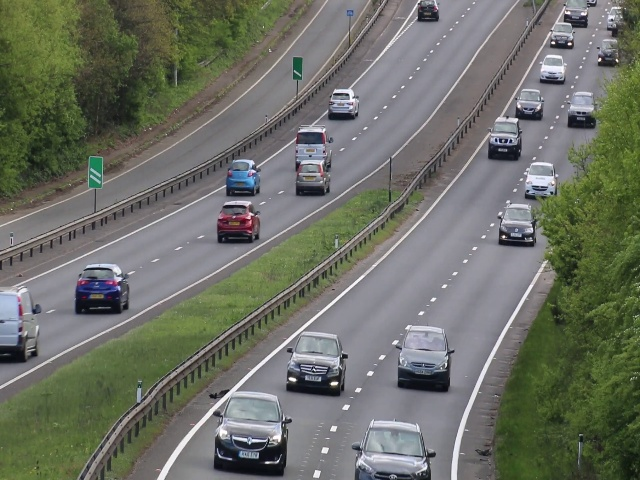car: (213, 390, 288, 476), (355, 417, 433, 480), (289, 329, 347, 399), (397, 323, 453, 390), (74, 262, 131, 315), (1, 288, 41, 360), (216, 200, 260, 243), (488, 114, 524, 161), (500, 200, 535, 248), (293, 125, 334, 164), (224, 155, 263, 193), (295, 161, 331, 196), (524, 161, 557, 199), (568, 90, 594, 130), (327, 88, 360, 118), (517, 87, 544, 119), (538, 54, 566, 84), (550, 23, 574, 49), (563, 2, 590, 25), (597, 39, 617, 69), (417, 1, 440, 22)
